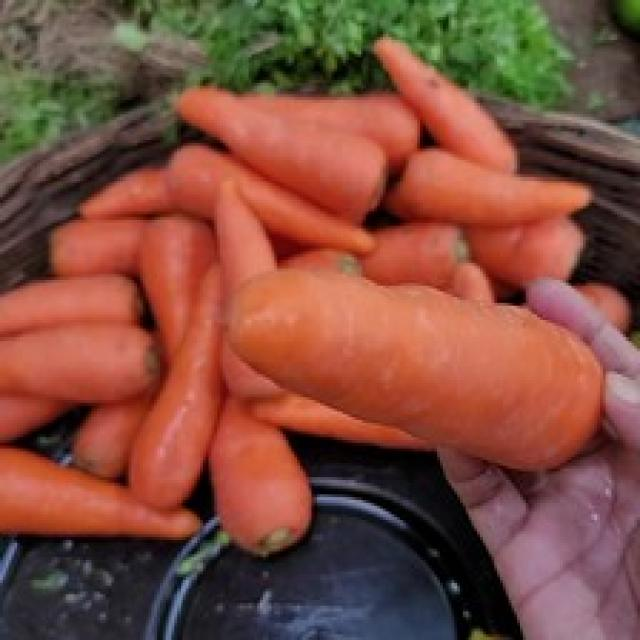Fresh_Carrot: (232, 273, 594, 455), (166, 73, 384, 209), (399, 147, 583, 222), (1, 288, 145, 340)
